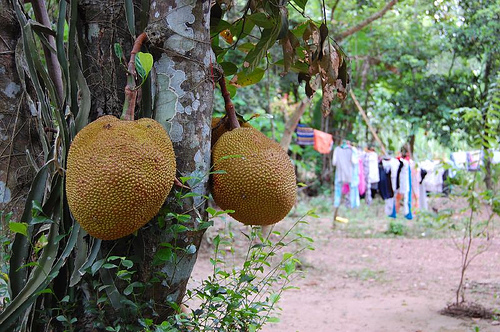jackfruit: (65, 107, 177, 242), (209, 125, 297, 227)
